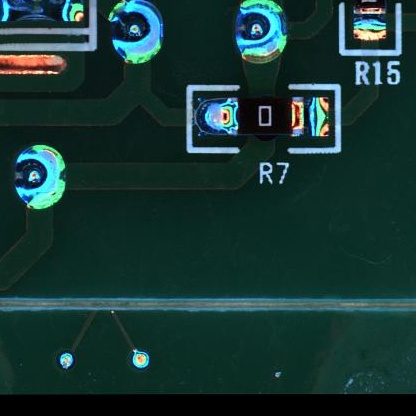spot: (107, 1, 166, 67), (13, 142, 67, 210), (233, 1, 288, 63)
